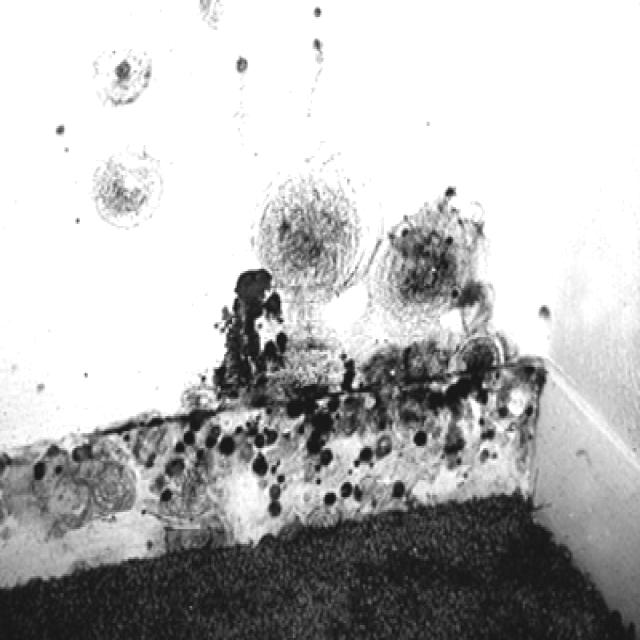stain marks: (215, 145, 550, 489), (48, 7, 248, 228), (3, 409, 211, 546), (208, 492, 373, 520), (300, 0, 330, 126)
